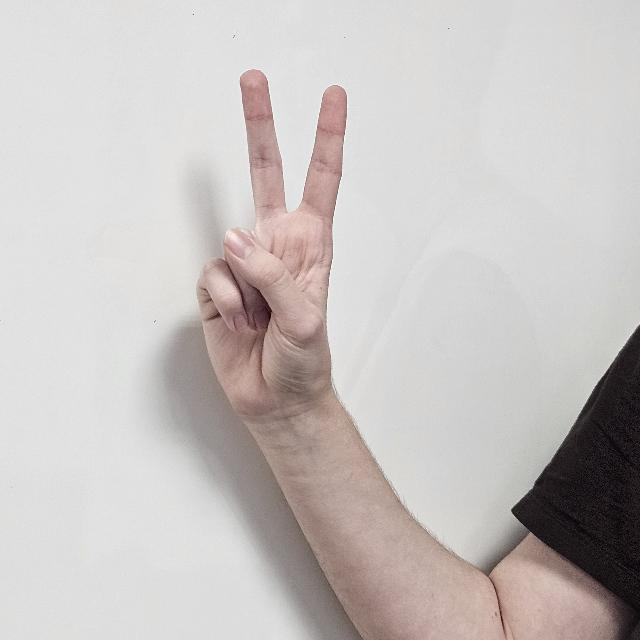Triangulo: (181, 64, 369, 478)
